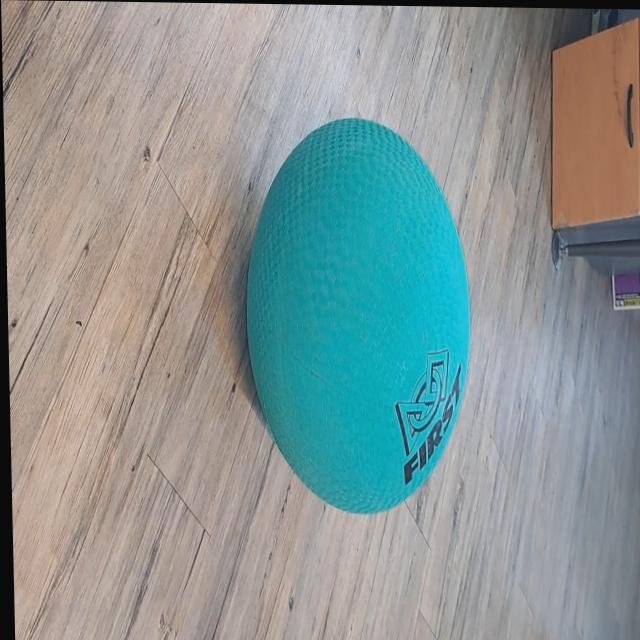ALGAE: (240, 114, 476, 517)
